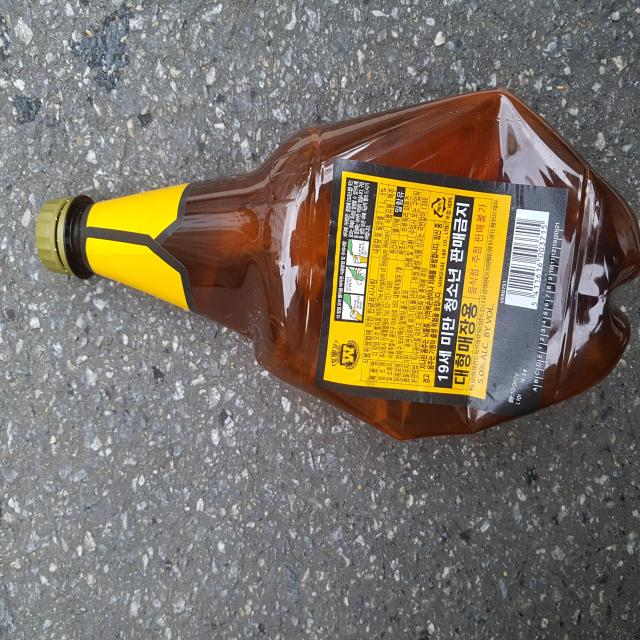bottle: (31, 81, 640, 448)
